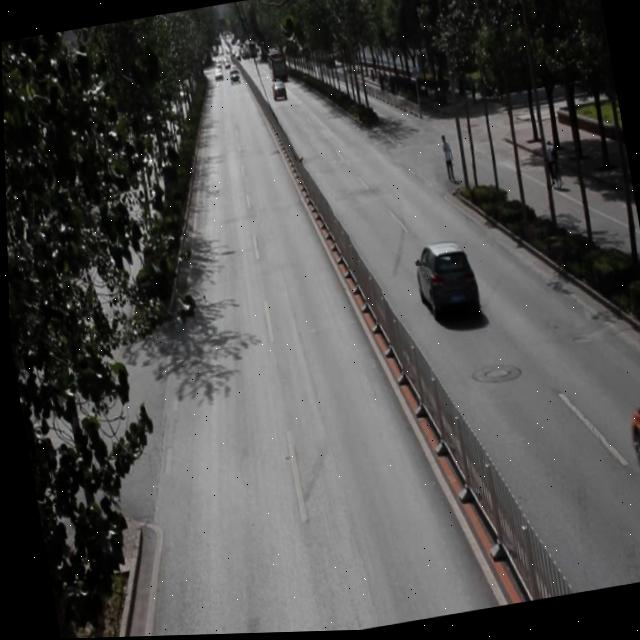car: (409, 236, 478, 322), (617, 379, 640, 520)
